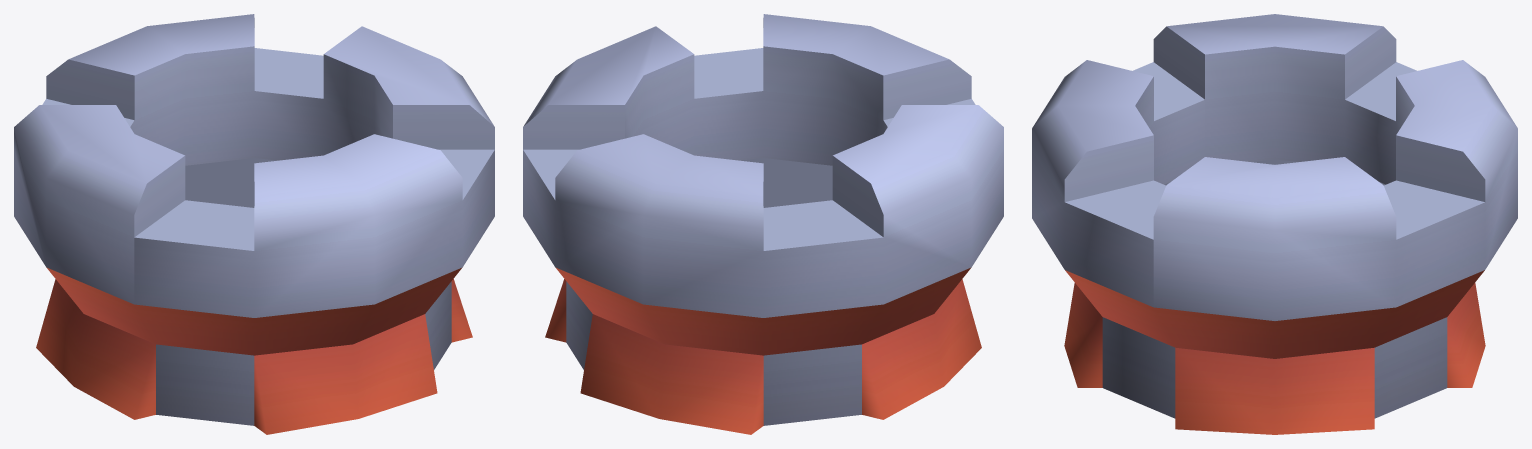
The model's file is tower-round-top-c.glb.
The picture shows the model from 3 angles, left to right: view 1: azimuth 30°, elevation 25°; view 2: azimuth 150°, elevation 25°; view 3: azimuth 270°, elevation 25°; orthographic projection.
Parts seen in each view (by area): view 1: tower-round-top-c; view 2: tower-round-top-c; view 3: tower-round-top-c.
Part boxes in pixels (left/top/right/bottom): tower-round-top-c: left=14, top=14, right=494, bottom=434; tower-round-top-c: left=523, top=14, right=1003, bottom=434; tower-round-top-c: left=1032, top=14, right=1517, bottom=434.
Size of the model in its own units: 0.976 by 0.5325 by 0.976.
1 material, 1 textured.
